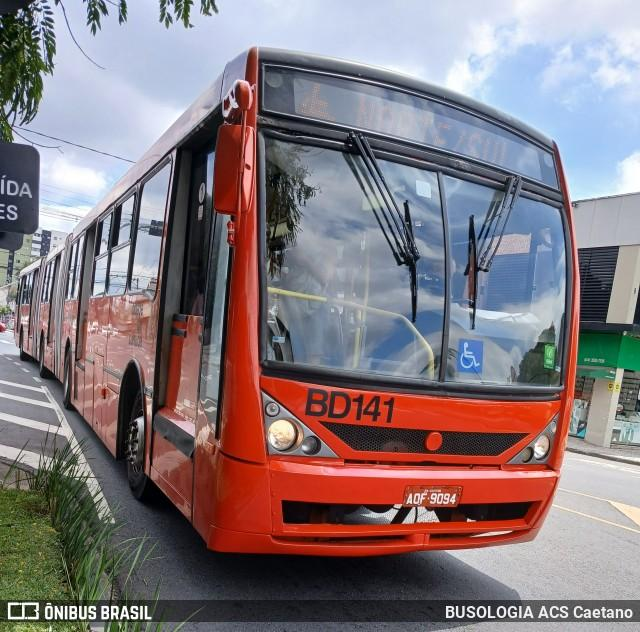NORTE SUL: (348, 87, 518, 174)
